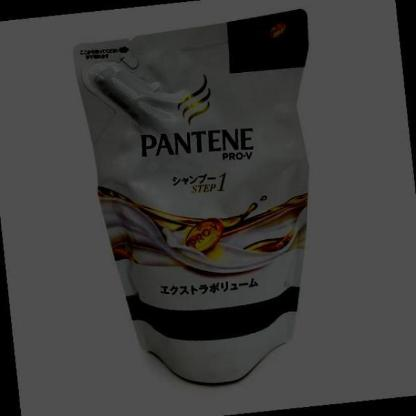Plastic Packaging: (72, 9, 318, 386)
